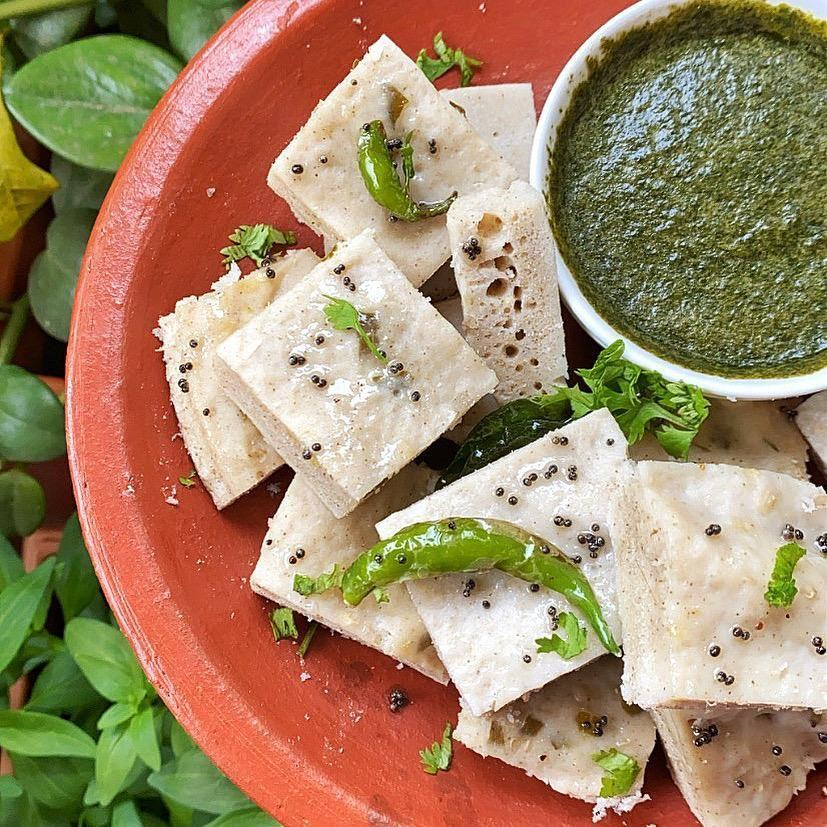dhokla: (173, 16, 562, 777), (575, 404, 827, 811)
